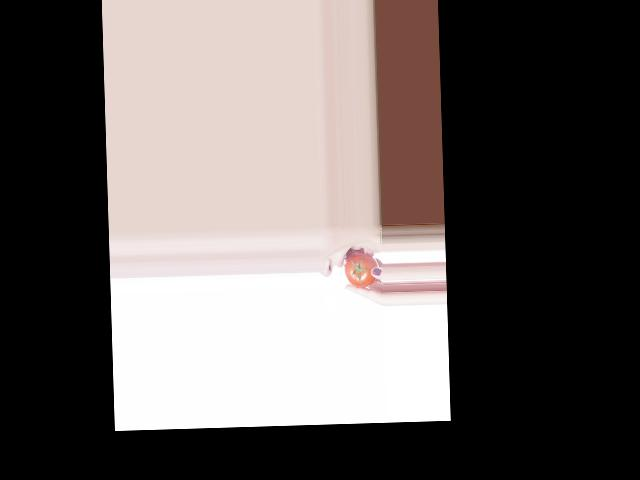tomato: (344, 253, 379, 288)
